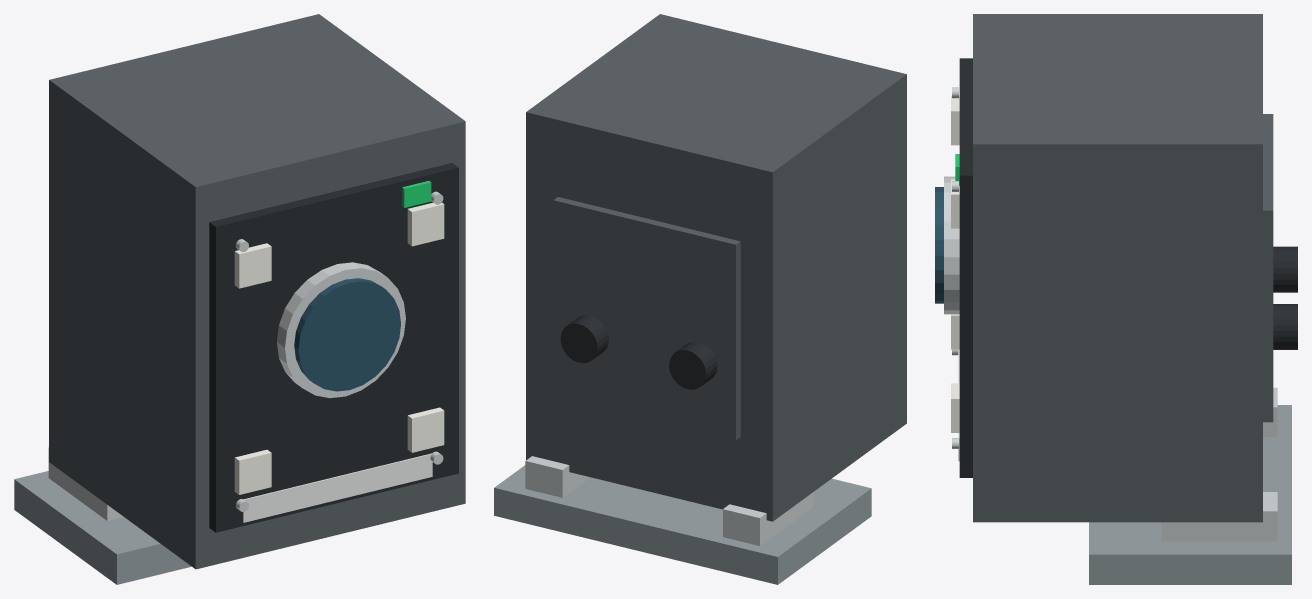
3 views of the same model, side by side, from view 1: azimuth 30°, elevation 25°; view 2: azimuth 150°, elevation 25°; view 3: azimuth 270°, elevation 25° (orthographic). The views are drawn at different scales.
Visible parts, largest first — view 1: housing, front bezel, optical lens, Mount bracket, front branding panel, lens surround, illumination emitter.002, illumination emitter, illumination emitter.003, illumination emitter.001, mounting flange, status indicator; view 2: housing, Rear connector plate, Mount bracket, mounting flange, Electrical connector, Electrical connector.001, mounting flange.001; view 3: housing, Mount bracket, front bezel, Rear connector plate, mounting flange.001, lens surround, Electrical connector, Electrical connector.001, optical lens.
Boxes of the visible parts, left/top/right/bottom form: housing: left=49, top=14, right=465, bottom=569; front bezel: left=209, top=163, right=458, bottom=532; optical lens: left=294, top=278, right=400, bottom=391; Mount bracket: left=14, top=471, right=191, bottom=584; front branding panel: left=243, top=453, right=432, bottom=522; lens surround: left=277, top=262, right=405, bottom=398; illumination emitter.002: left=407, top=407, right=444, bottom=452; illumination emitter: left=234, top=449, right=271, bottom=494; illumination emitter.003: left=407, top=202, right=444, bottom=246; illumination emitter.001: left=234, top=243, right=271, bottom=288; mounting flange: left=48, top=447, right=123, bottom=520; status indicator: left=402, top=181, right=431, bottom=207; housing: left=526, top=14, right=906, bottom=521; Rear connector plate: left=553, top=197, right=740, bottom=440; Mount bracket: left=494, top=465, right=871, bottom=584; mounting flange: left=723, top=492, right=813, bottom=545; Electrical connector: left=669, top=341, right=717, bottom=389; Electrical connector.001: left=560, top=315, right=608, bottom=363; mounting flange.001: left=525, top=456, right=589, bottom=497; housing: left=973, top=14, right=1262, bottom=522; Mount bracket: left=1089, top=405, right=1291, bottom=584; front bezel: left=959, top=58, right=972, bottom=477; Rear connector plate: left=1263, top=114, right=1273, bottom=422; mounting flange.001: left=1161, top=492, right=1277, bottom=541; lens surround: left=944, top=176, right=959, bottom=314; Electrical connector: left=1273, top=246, right=1297, bottom=292; Electrical connector.001: left=1273, top=304, right=1297, bottom=349; optical lens: left=935, top=187, right=943, bottom=303.
Size of the model in its own units: 0.1955 by 0.2622 by 0.2.
